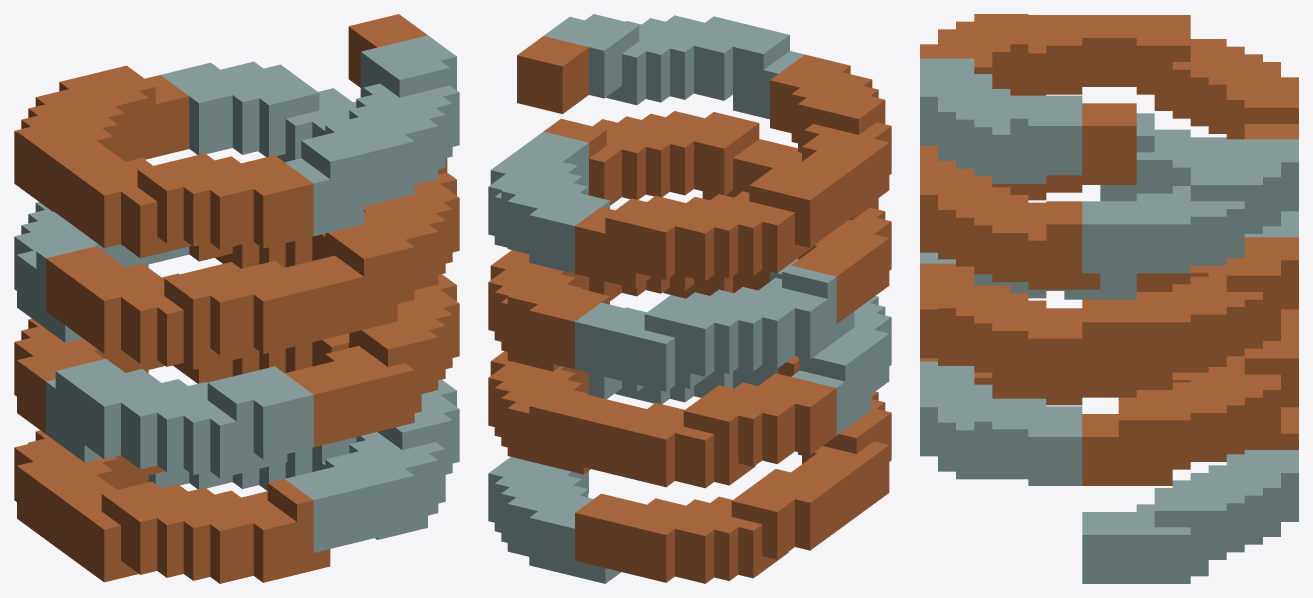
Rendered from voxel_32_20046.glb.
3 views of the same model, side by side, from view 1: azimuth 30°, elevation 25°; view 2: azimuth 150°, elevation 25°; view 3: azimuth 270°, elevation 25° (orthographic). The views are drawn at different scales.
Visible parts, largest first — view 1: prop_20046; view 2: prop_20046; view 3: prop_20046.
Part boxes in pixels (box(x1,y1,x2,y2)): prop_20046: box(14, 14, 459, 583); prop_20046: box(488, 14, 891, 583); prop_20046: box(920, 14, 1298, 583).
Size of the model in its own units: 0.5447 by 0.7262 by 0.5447.
